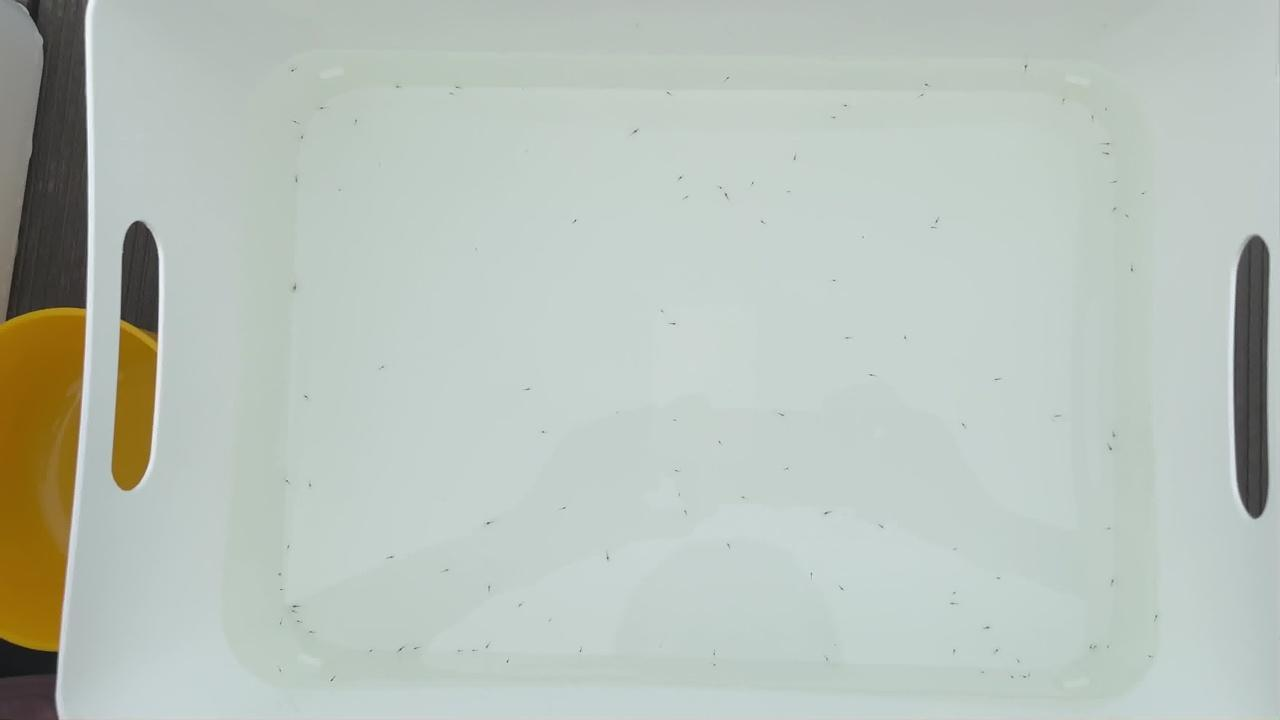shrimp: (285, 67, 297, 75), (295, 136, 307, 144), (289, 117, 301, 125), (314, 104, 326, 112), (351, 120, 363, 128), (392, 84, 404, 92), (445, 90, 457, 98), (454, 84, 466, 92), (292, 174, 304, 182), (290, 283, 302, 291), (300, 393, 312, 401), (377, 365, 389, 373), (538, 428, 550, 436), (522, 387, 534, 395), (670, 320, 682, 328), (657, 307, 669, 315), (570, 219, 582, 227), (631, 129, 643, 137), (665, 91, 677, 99), (720, 74, 732, 82), (843, 103, 855, 111), (829, 113, 841, 121), (790, 155, 802, 163), (784, 189, 796, 197), (759, 219, 771, 227), (748, 181, 760, 189), (721, 192, 733, 200), (681, 193, 693, 201), (675, 175, 687, 183), (714, 184, 726, 192), (826, 278, 838, 286), (926, 225, 938, 233), (932, 218, 944, 226), (917, 92, 929, 100), (921, 81, 933, 89), (1021, 63, 1033, 71), (1058, 98, 1070, 106), (1087, 117, 1099, 125), (1101, 105, 1113, 113), (1102, 140, 1114, 148), (1102, 148, 1114, 156), (1108, 179, 1120, 187), (1111, 206, 1123, 214), (1121, 215, 1133, 223), (1140, 191, 1152, 199), (1127, 266, 1139, 274), (844, 334, 856, 342), (901, 334, 913, 342), (865, 372, 877, 380), (958, 422, 970, 430), (994, 375, 1006, 383), (1049, 411, 1061, 419), (1108, 431, 1120, 439), (1105, 446, 1117, 454), (1150, 614, 1162, 622), (1147, 652, 1159, 660), (1104, 645, 1116, 653), (1091, 645, 1103, 653), (1087, 645, 1099, 653), (1107, 577, 1119, 585), (1105, 524, 1117, 532), (995, 576, 1007, 584), (948, 544, 960, 552), (950, 589, 962, 597), (947, 601, 959, 609), (949, 647, 961, 655), (981, 624, 993, 632), (992, 649, 1004, 657), (1014, 659, 1026, 667), (1026, 670, 1038, 678), (1020, 674, 1032, 682), (1008, 675, 1020, 683), (979, 670, 991, 678), (822, 658, 834, 666), (838, 586, 850, 594), (807, 572, 819, 580), (877, 524, 889, 532), (822, 510, 834, 518), (781, 464, 793, 472), (777, 411, 789, 419), (716, 439, 728, 447), (739, 493, 751, 501), (724, 542, 736, 550), (709, 651, 721, 659), (709, 662, 721, 670), (681, 509, 693, 517), (675, 491, 687, 499), (671, 467, 683, 475), (671, 418, 683, 426), (604, 553, 616, 561), (557, 505, 569, 513), (484, 519, 496, 527), (384, 554, 396, 562), (441, 566, 453, 574), (483, 585, 495, 593), (515, 599, 527, 607), (547, 617, 559, 625), (577, 646, 589, 654), (502, 660, 514, 668), (482, 642, 494, 650), (470, 648, 482, 656), (455, 648, 467, 656), (411, 644, 423, 652), (396, 647, 408, 655), (366, 649, 378, 657), (329, 676, 341, 684), (274, 667, 286, 675), (307, 629, 319, 637), (275, 621, 287, 629), (293, 617, 305, 625), (288, 608, 300, 616), (290, 604, 302, 612), (278, 587, 290, 595), (274, 571, 286, 579), (283, 544, 295, 552), (305, 481, 317, 489), (282, 477, 294, 485)
